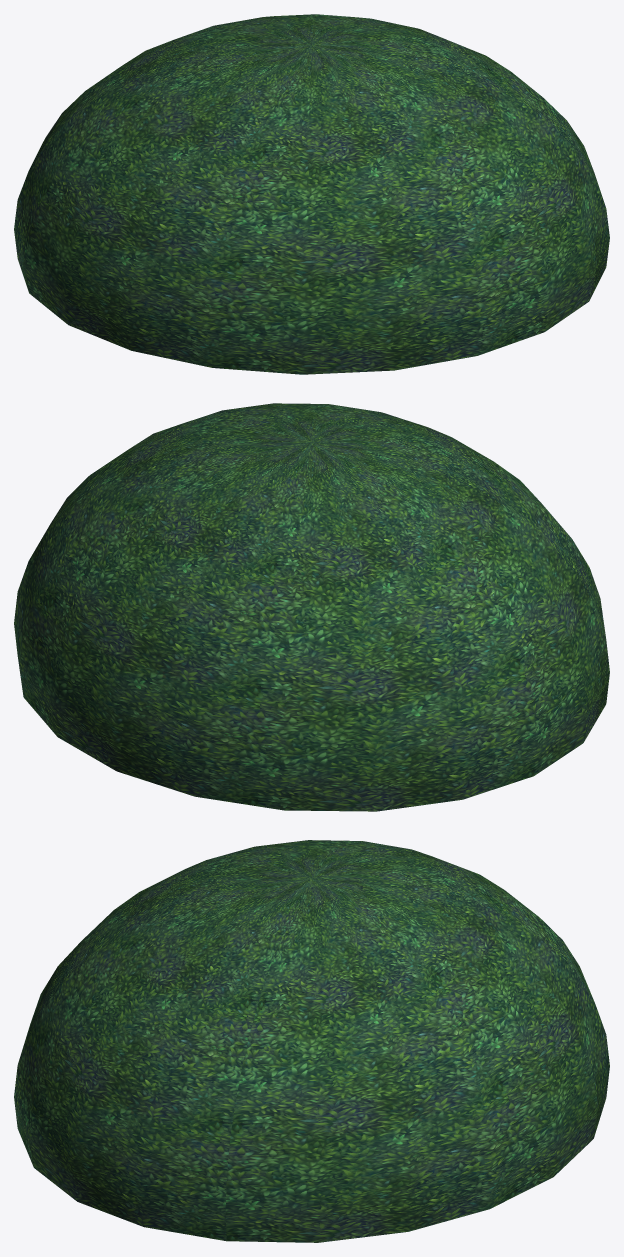
File: Tree_2_Color.fbx
3 renders of one model, top to bottom at view 1: azimuth 30°, elevation 25°; view 2: azimuth 150°, elevation 25°; view 3: azimuth 270°, elevation 25°, orthographic. The views are drawn at different scales.
Parts seen in each view (by area): view 1: maid_maid_pSphere3; view 2: maid_maid_pSphere3; view 3: maid_maid_pSphere3.
Part boxes in pixels (x1,y1,x2,y2): maid_maid_pSphere3: (14, 14, 609, 374); maid_maid_pSphere3: (14, 403, 609, 811); maid_maid_pSphere3: (14, 840, 609, 1242).
Bounding box in the file's own units: 415 × 173 × 399.
Materials: 1 (1 with a texture image).
